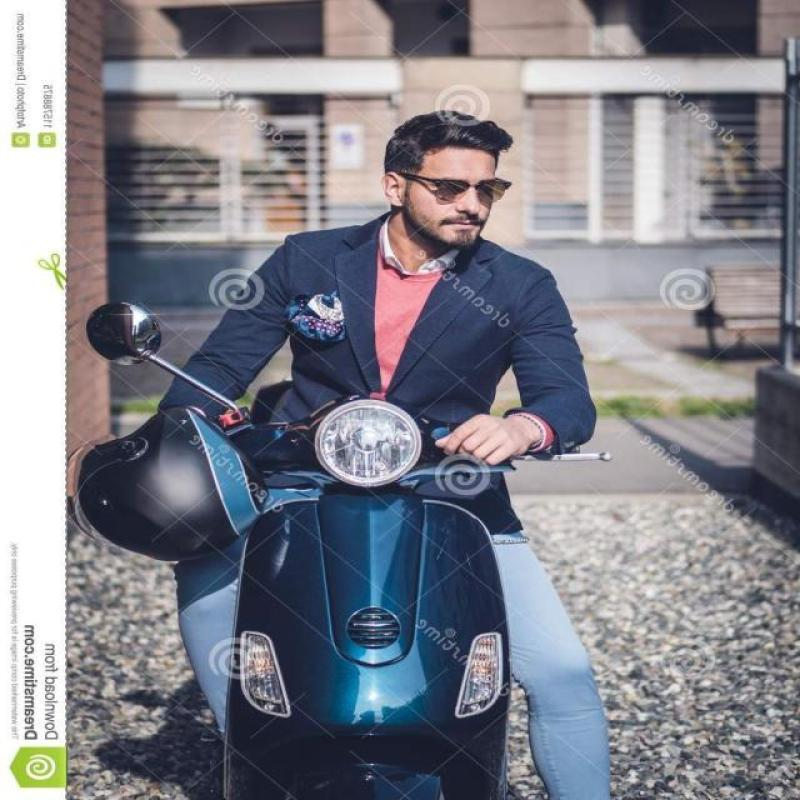nohelmet: (368, 108, 530, 292)
